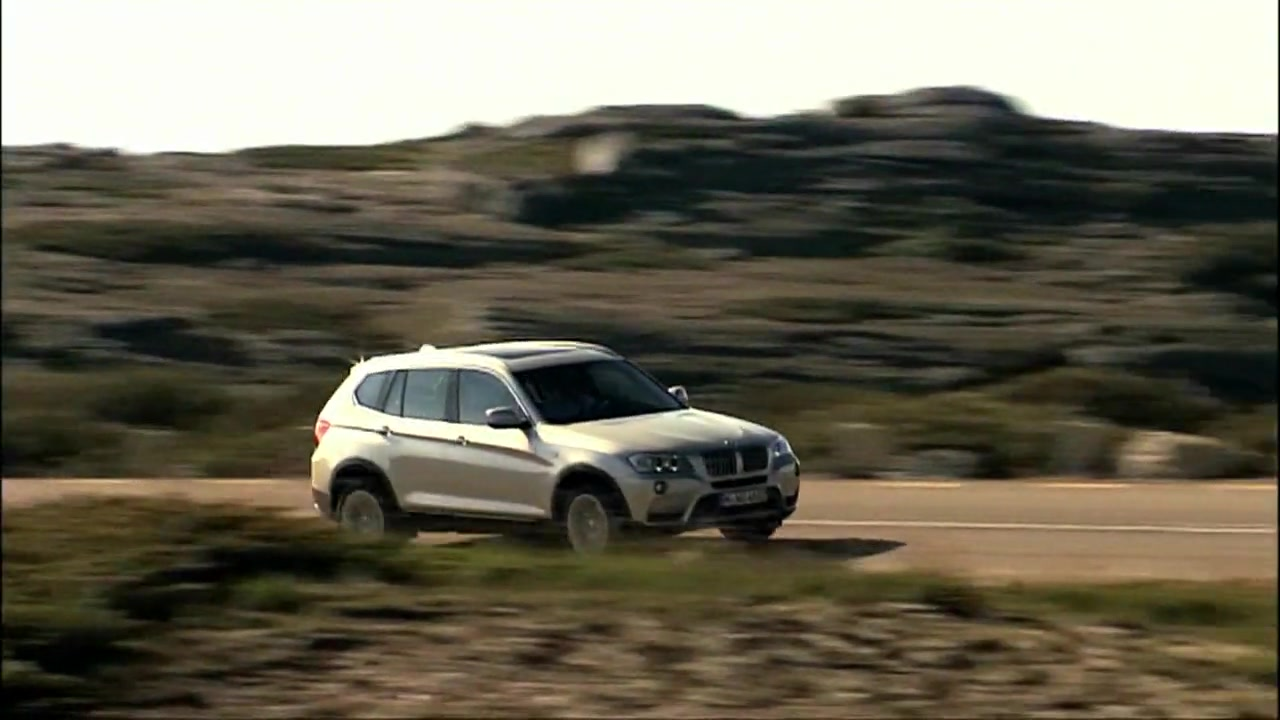car: (308, 339, 807, 560)
